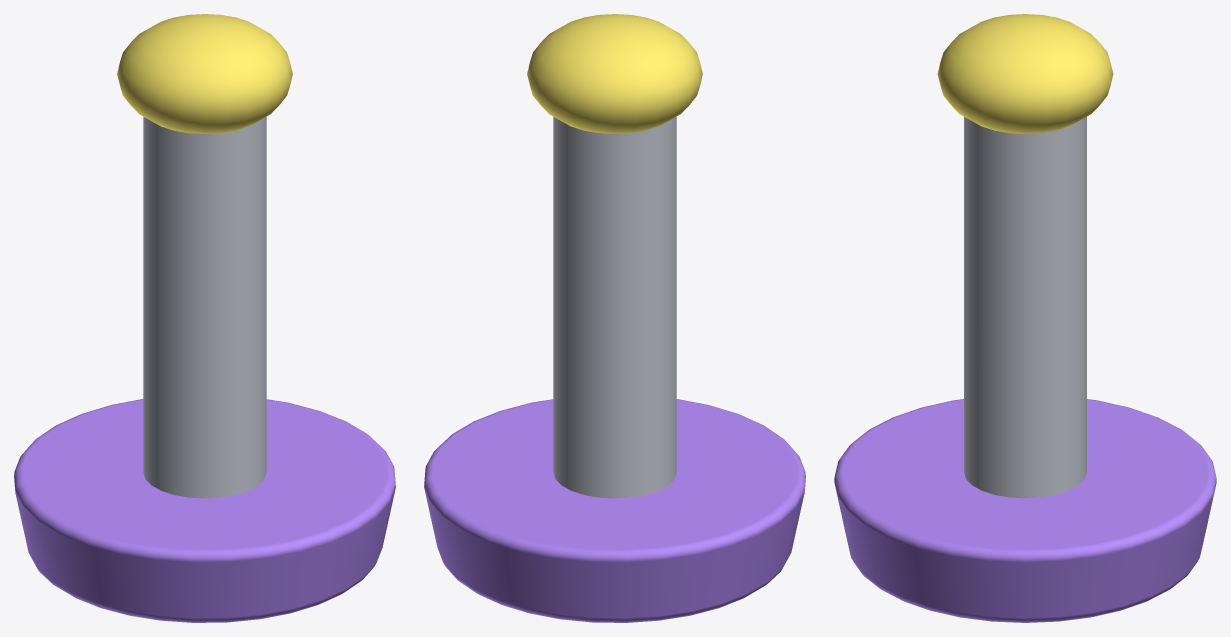
File: hub.glb
3 views of the same model, side by side, from view 1: azimuth 30°, elevation 25°; view 2: azimuth 150°, elevation 25°; view 3: azimuth 270°, elevation 25° (orthographic).
Parts seen in each view (by area): view 1: HubBase, HubPost, HubCap; view 2: HubBase, HubPost, HubCap; view 3: HubBase, HubPost, HubCap.
Boxes of the visible parts, x1,y1,x2,y2 form: HubBase: [14, 399, 395, 622]; HubPost: [143, 116, 266, 498]; HubCap: [117, 14, 292, 133]; HubBase: [424, 399, 805, 622]; HubPost: [553, 116, 676, 498]; HubCap: [527, 14, 702, 133]; HubBase: [834, 399, 1216, 622]; HubPost: [964, 117, 1086, 498]; HubCap: [937, 14, 1113, 133].
Bounding box in the file's own units: 2.18 × 3.3 × 2.18.
